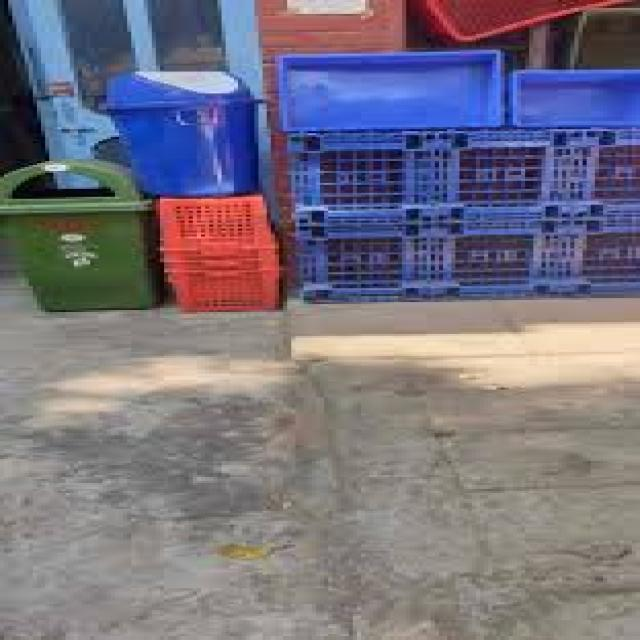basket: (279, 47, 505, 133), (159, 196, 279, 314)
